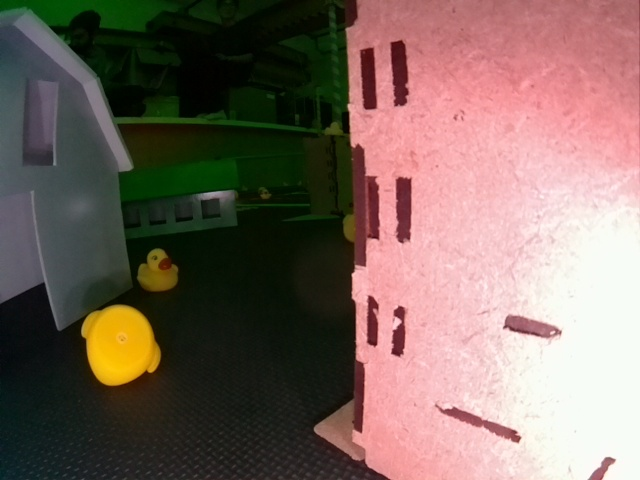Duckie: (81, 305, 160, 382), (138, 248, 177, 292), (343, 213, 354, 241), (325, 122, 343, 134), (260, 189, 271, 199)
